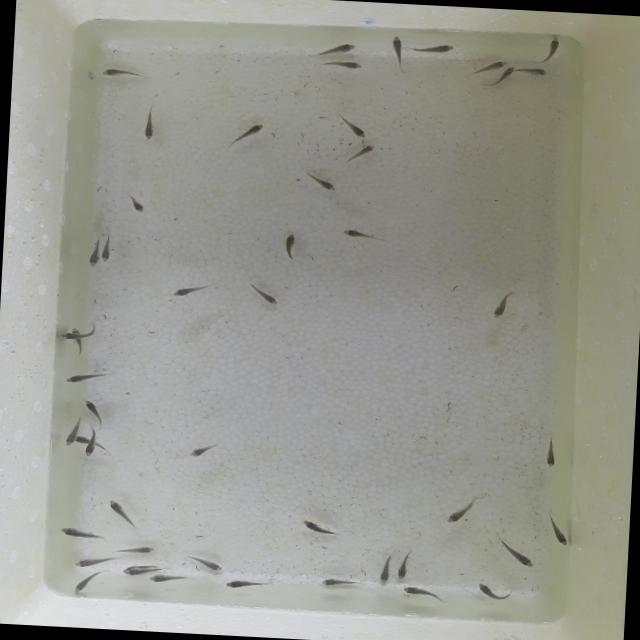fingerling: (442, 494, 482, 528), (244, 280, 283, 308), (316, 58, 372, 76), (536, 31, 565, 64), (56, 526, 109, 544), (294, 517, 338, 538), (538, 434, 562, 472), (410, 40, 458, 59), (96, 66, 146, 84), (186, 438, 223, 462), (63, 368, 112, 386), (169, 280, 213, 300), (491, 289, 518, 321), (340, 227, 388, 244), (122, 188, 149, 218), (110, 542, 159, 558), (72, 570, 102, 596), (236, 120, 268, 144), (138, 104, 158, 142), (506, 548, 539, 570), (104, 498, 133, 522), (388, 34, 407, 70), (319, 40, 360, 56), (351, 142, 381, 163), (63, 416, 84, 446), (340, 120, 368, 142), (472, 581, 504, 600), (306, 176, 338, 195), (100, 232, 116, 269), (145, 572, 187, 586), (86, 234, 102, 269), (472, 58, 508, 72), (518, 66, 554, 80), (401, 586, 442, 598), (550, 524, 570, 548), (72, 558, 112, 570), (376, 560, 394, 586), (495, 66, 518, 86), (190, 556, 218, 572), (83, 401, 104, 422), (60, 328, 90, 342), (320, 578, 355, 590), (282, 232, 300, 254), (120, 564, 152, 576), (226, 580, 262, 590), (396, 558, 410, 582), (84, 434, 99, 456)
